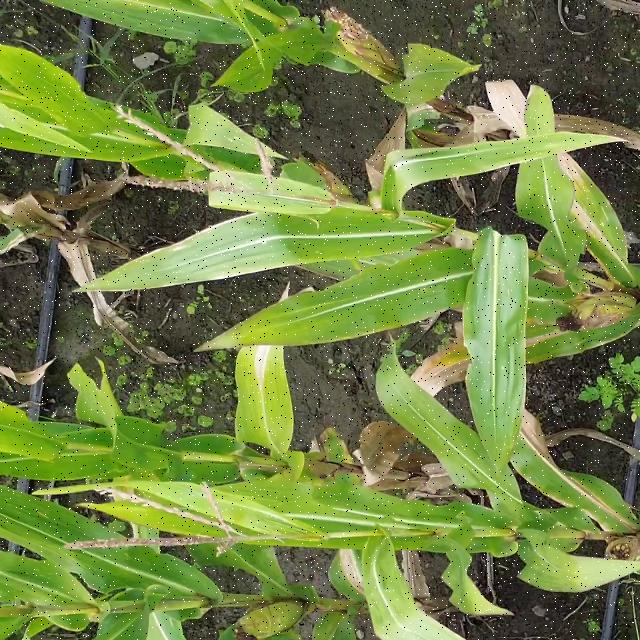northern-leaf-blight: (508, 412, 590, 497), (405, 332, 500, 398), (558, 148, 625, 238), (326, 534, 378, 604)
southern-leaf-blight: (25, 556, 172, 600), (212, 117, 284, 164)
